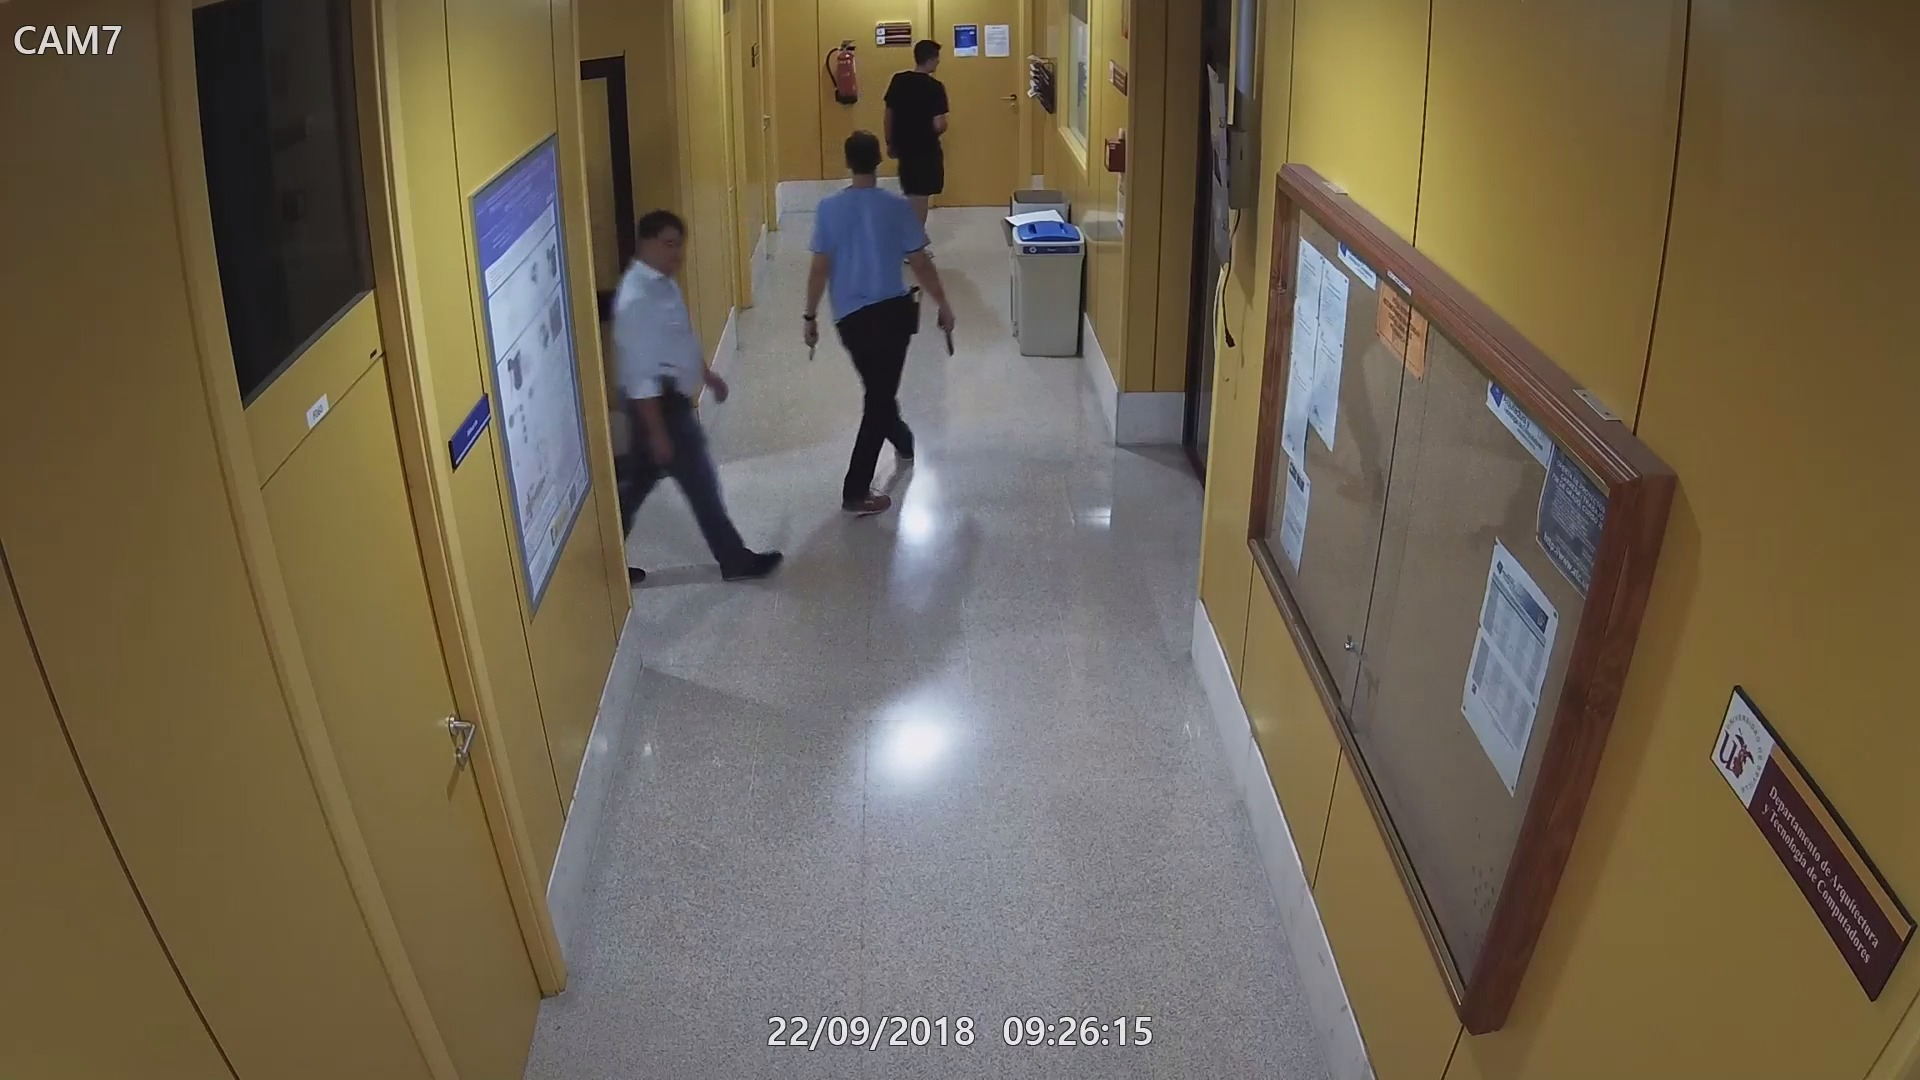Handgun: (934, 297, 960, 359), (655, 372, 682, 419)
Knife: (800, 320, 819, 361)
